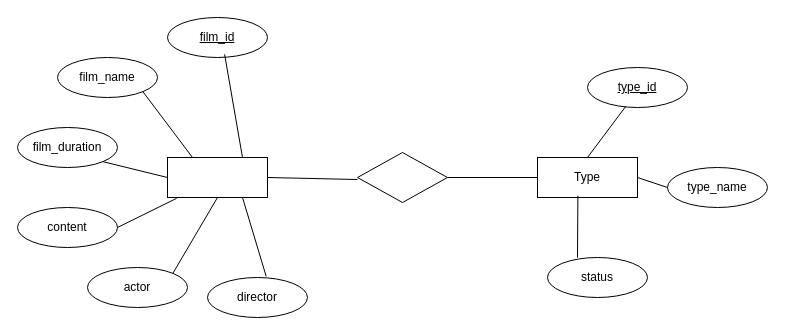
The diagram is 785 pixels wide and 335 high, and some of its shapes have lost their labels. Each missing label, with the centre of its shape:
belonging to: point (402, 177)
Film: point (217, 177)
